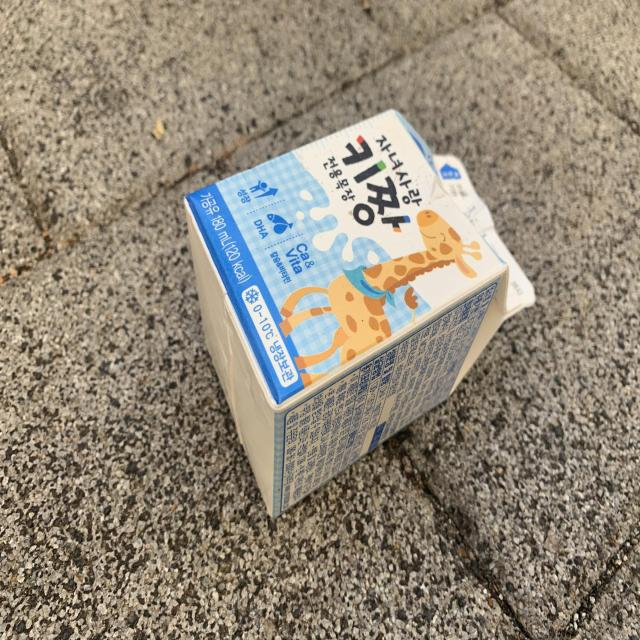paperpack: (185, 109, 535, 517)
